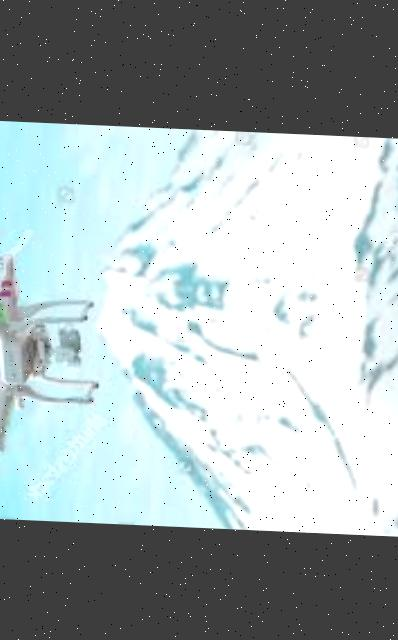drone: (0, 231, 105, 484)
